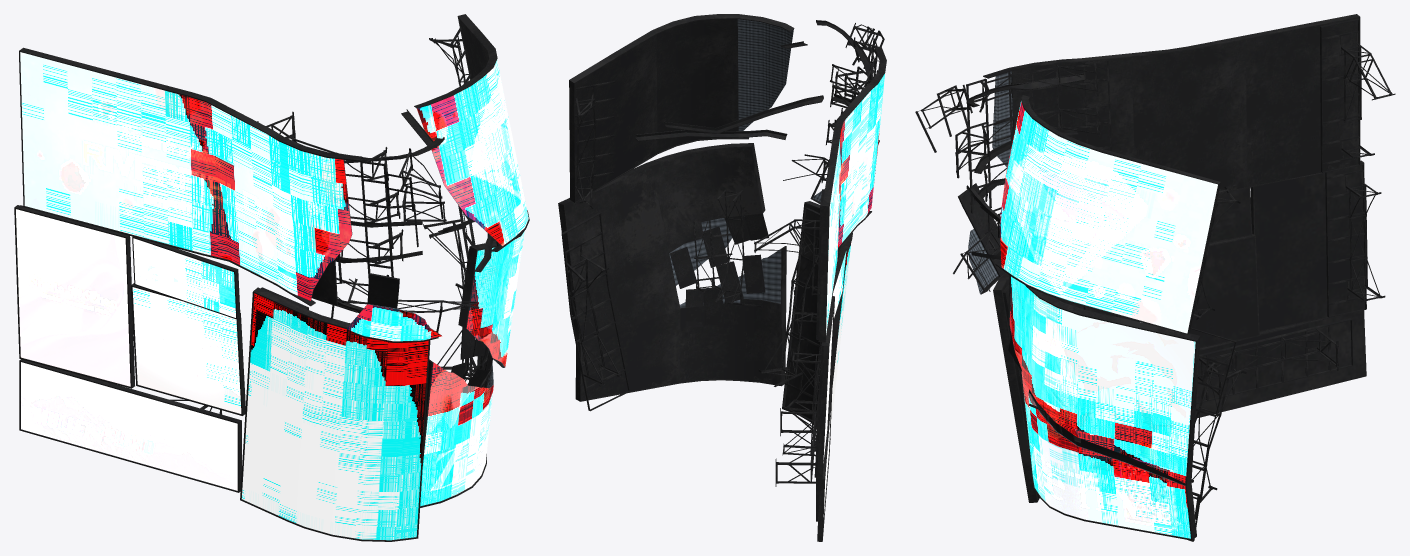
Rendered from sm0071_electronicbillboard00.fbx.
The picture shows the model from 3 angles, left to right: view 1: azimuth 30°, elevation 25°; view 2: azimuth 150°, elevation 25°; view 3: azimuth 270°, elevation 25°; orthographic projection. The views are drawn at different scales.
Visible parts, largest first — view 1: LOD_1_Group_0_Sub_1__sm0071_electronicBillboard00_A_Mat, LOD_1_Group_0_Sub_5__sm0071_electronicBillboard00_D_Mat, LOD_1_Group_0_Sub_6__sm0071_electronicBillboard00_C_Mat, LOD_1_Group_0_Sub_2__sm0071_electronicBillboard00_Mat, LOD_1_Group_0_Sub_4__sm0071_electronicBillboard00_B_Mat; view 2: LOD_1_Group_0_Sub_2__sm0071_electronicBillboard00_Mat, LOD_1_Group_0_Sub_3__sm0071_electronicBillboard00_back_Mat, LOD_1_Group_0_Sub_1__sm0071_electronicBillboard00_A_Mat, LOD_1_Group_0_Sub_5__sm0071_electronicBillboard00_D_Mat, LOD_1_Group_0_Sub_6__sm0071_electronicBillboard00_C_Mat; view 3: LOD_1_Group_0_Sub_2__sm0071_electronicBillboard00_Mat, LOD_1_Group_0_Sub_4__sm0071_electronicBillboard00_B_Mat, LOD_1_Group_0_Sub_1__sm0071_electronicBillboard00_A_Mat, LOD_1_Group_0_Sub_3__sm0071_electronicBillboard00_back_Mat.
Part boxes in pixels (x1,y1,x2,y2): LOD_1_Group_0_Sub_1__sm0071_electronicBillboard00_A_Mat: (20,52,528,341); LOD_1_Group_0_Sub_5__sm0071_electronicBillboard00_D_Mat: (16,209,241,490); LOD_1_Group_0_Sub_6__sm0071_electronicBillboard00_C_Mat: (241,293,428,540); LOD_1_Group_0_Sub_2__sm0071_electronicBillboard00_Mat: (14,14,529,541); LOD_1_Group_0_Sub_4__sm0071_electronicBillboard00_B_Mat: (420,231,524,506); LOD_1_Group_0_Sub_2__sm0071_electronicBillboard00_Mat: (558,14,886,541); LOD_1_Group_0_Sub_3__sm0071_electronicBillboard00_back_Mat: (669,19,824,308); LOD_1_Group_0_Sub_1__sm0071_electronicBillboard00_A_Mat: (826,74,884,334); LOD_1_Group_0_Sub_5__sm0071_electronicBillboard00_D_Mat: (823,251,846,516); LOD_1_Group_0_Sub_6__sm0071_electronicBillboard00_C_Mat: (830,242,851,429); LOD_1_Group_0_Sub_2__sm0071_electronicBillboard00_Mat: (915,14,1395,541); LOD_1_Group_0_Sub_4__sm0071_electronicBillboard00_B_Mat: (1009,276,1195,538); LOD_1_Group_0_Sub_1__sm0071_electronicBillboard00_A_Mat: (999,101,1217,333); LOD_1_Group_0_Sub_3__sm0071_electronicBillboard00_back_Mat: (968,71,1185,486).
Size of the model in its own units: 1169 by 1230 by 1304.
